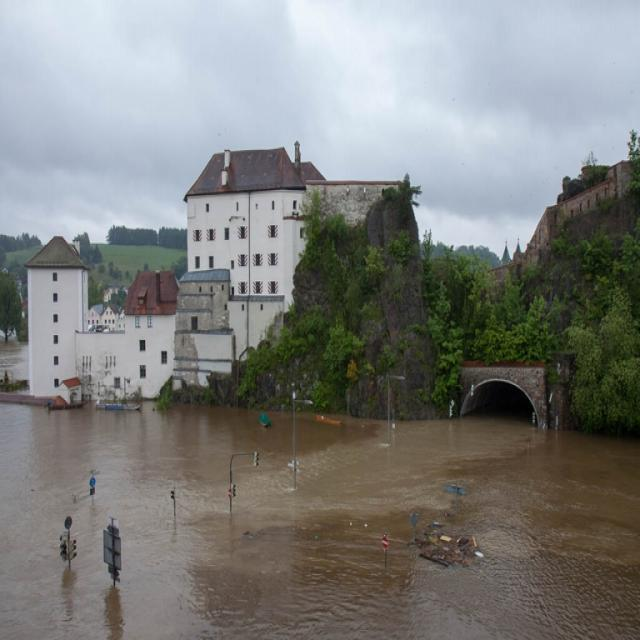flood: (0, 404, 640, 640)
house: (182, 146, 308, 306), (24, 236, 90, 384), (184, 268, 230, 341), (124, 270, 180, 321)
